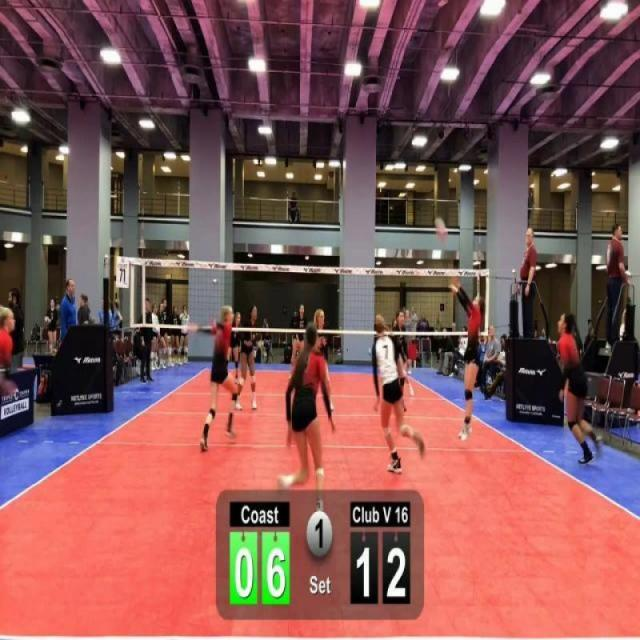volleyball: (432, 213, 451, 246)
